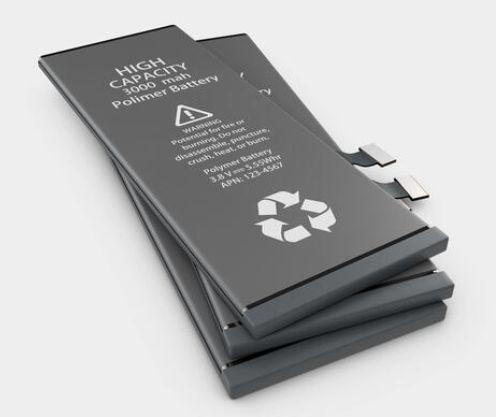battery: (36, 21, 458, 401)
